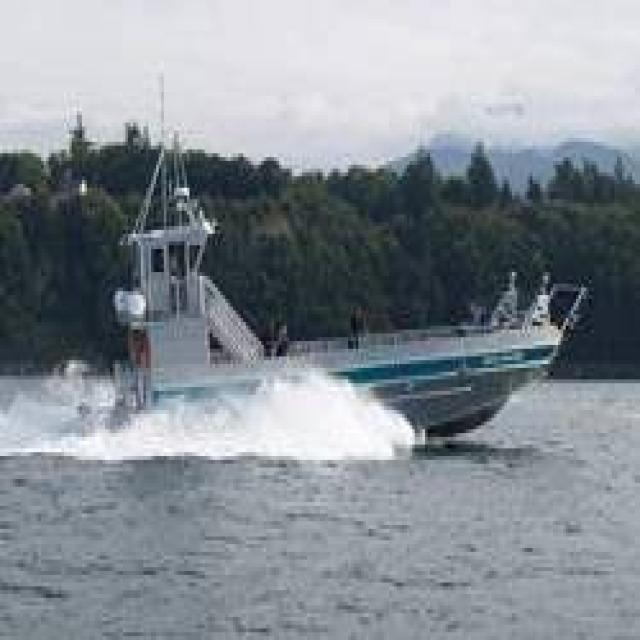houseboat: (109, 116, 586, 449)
